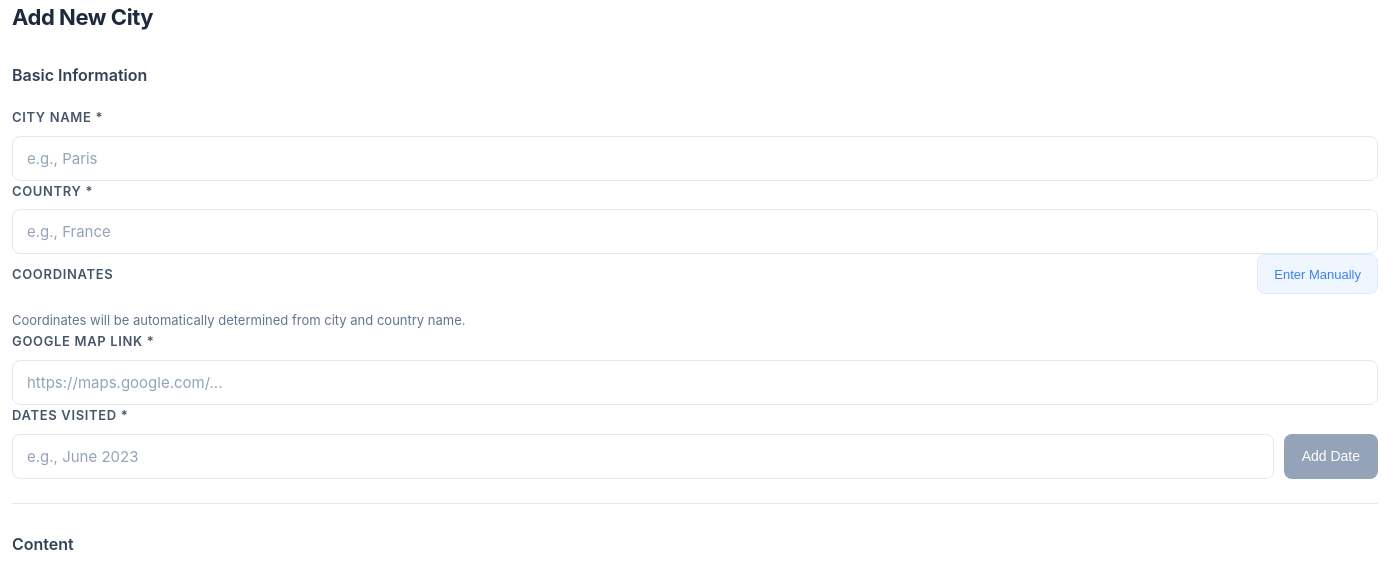
CityForm › allows adding and removing visit dates
// Add first date
Type "June 2023" into the field labelled "Dates Visited *".
click(643, 456); type("June 2023")  # box [12,434,1274,479]
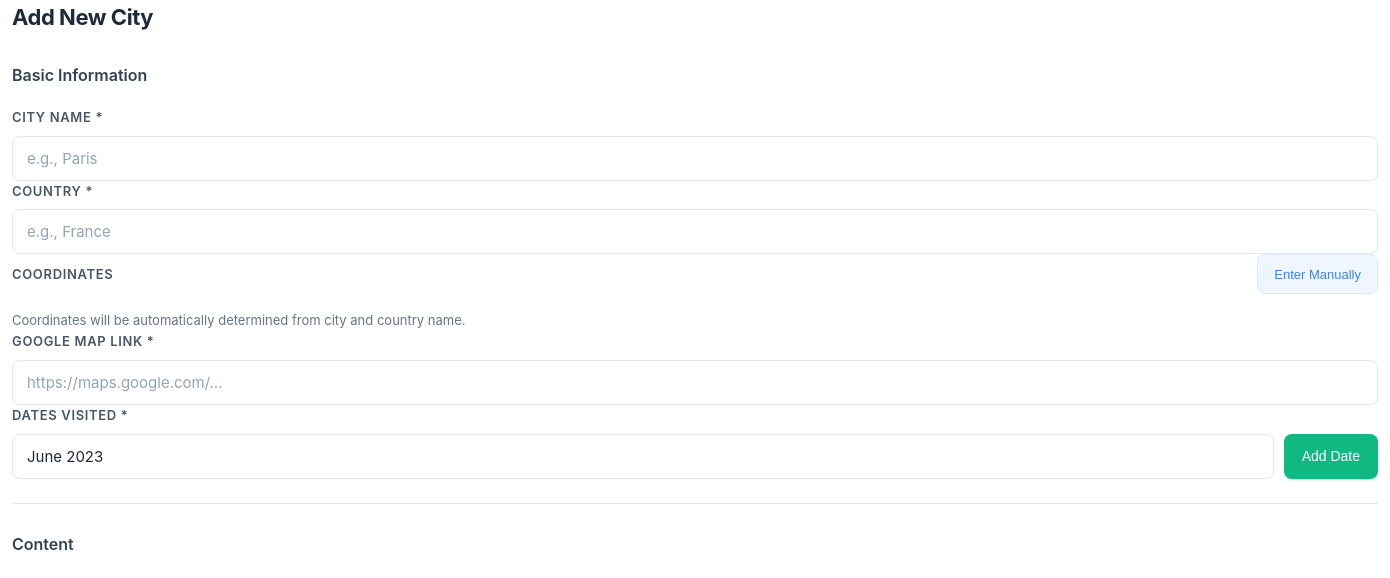
Click the button "Add Date".
click(1331, 456)  # box [1284,434,1378,479]
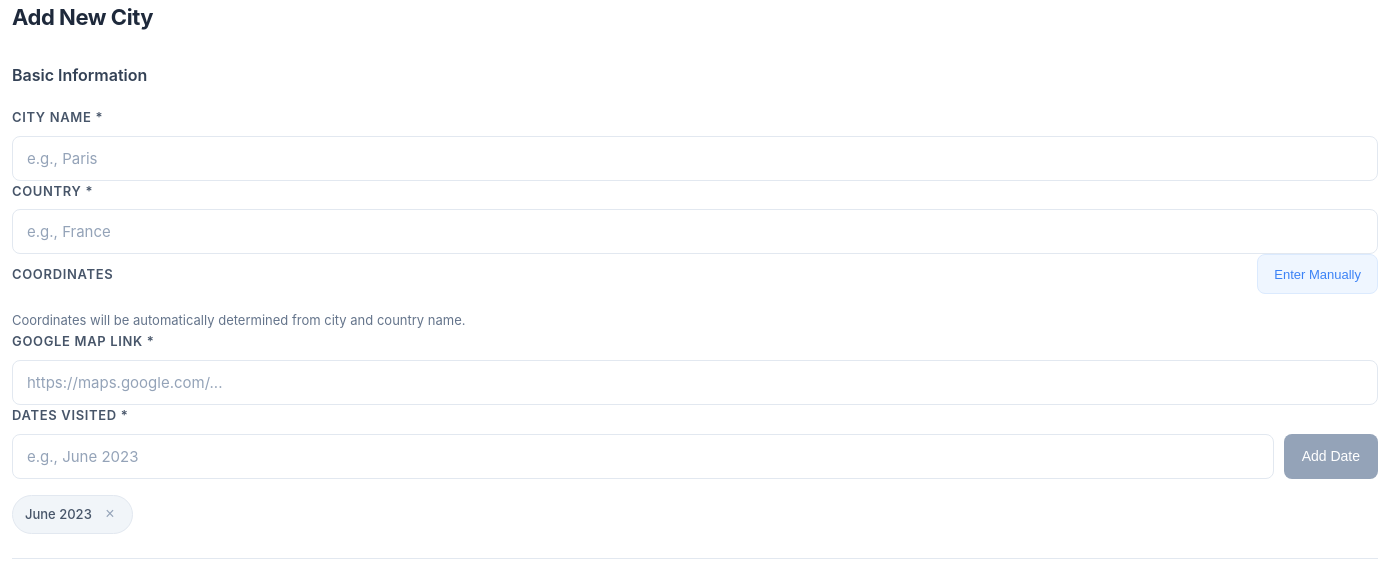
Now the text "June 2023" is shown, box [25,504,92,525]
Now the field labelled "Dates Visited *" is empty
// Add second date
Type "December 2023" into the field labelled "Dates Visited *".
click(643, 456); type("December 2023")  # box [12,434,1274,479]
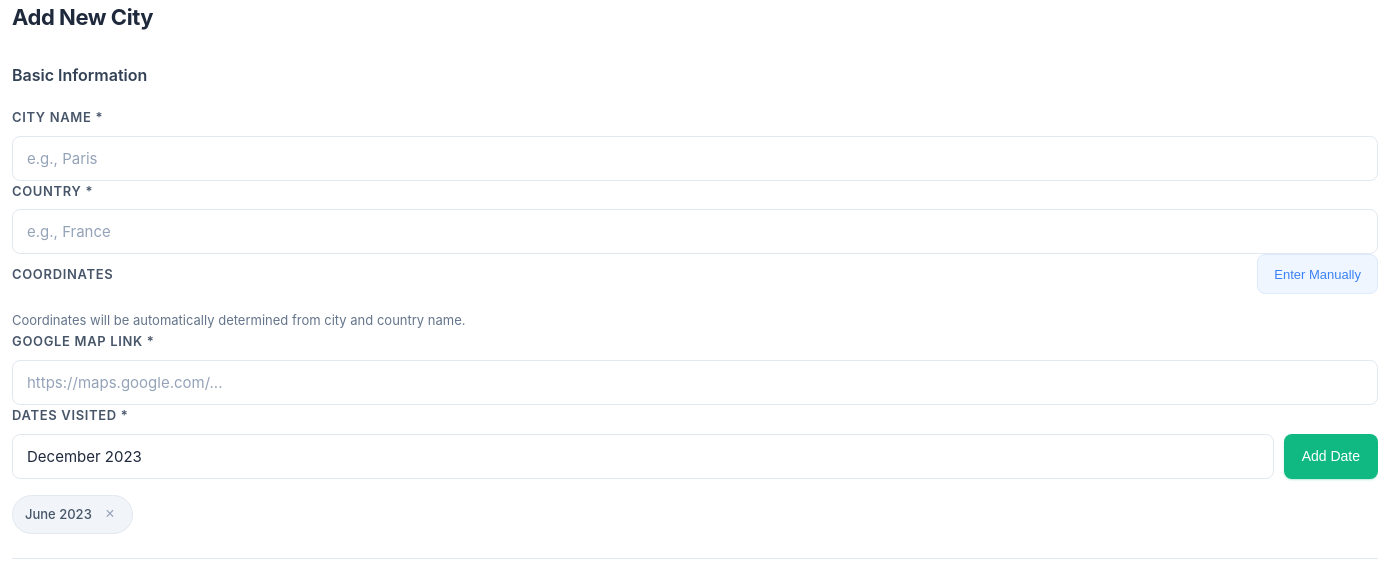
Click the button "Add Date".
click(1331, 456)  # box [1284,434,1378,479]
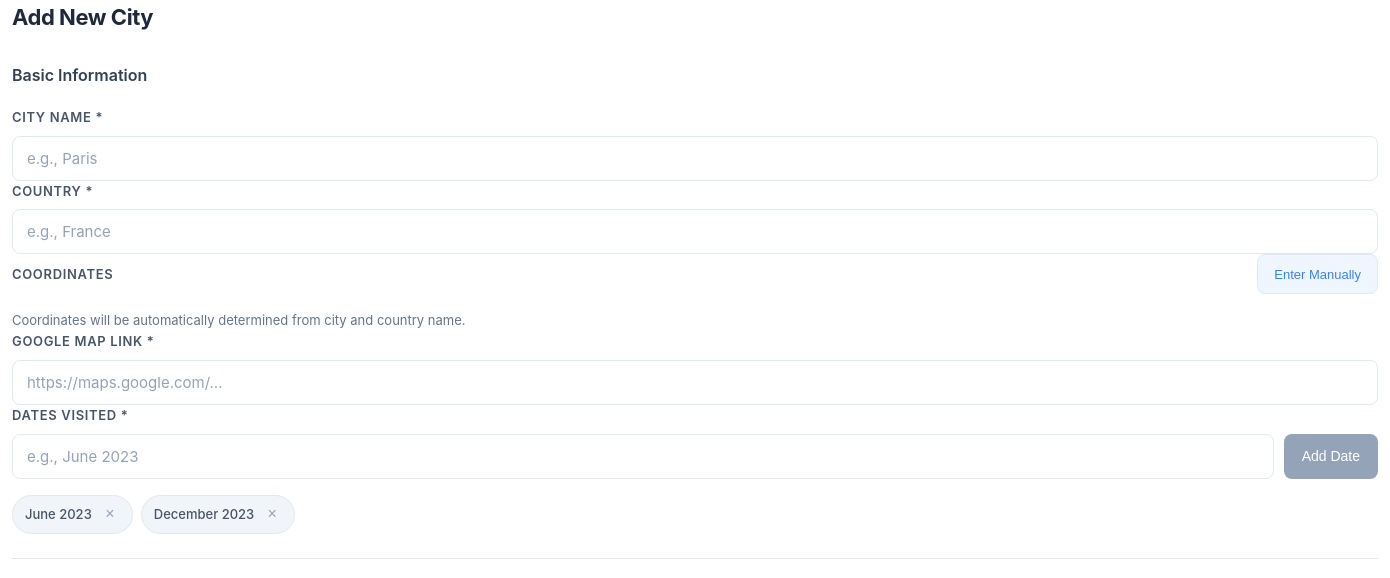
Now the text "December 2023" is shown, box [154,504,254,525]
// Remove first date
Click the button named "remove date".
click(110, 514)  # box [100,504,120,524]
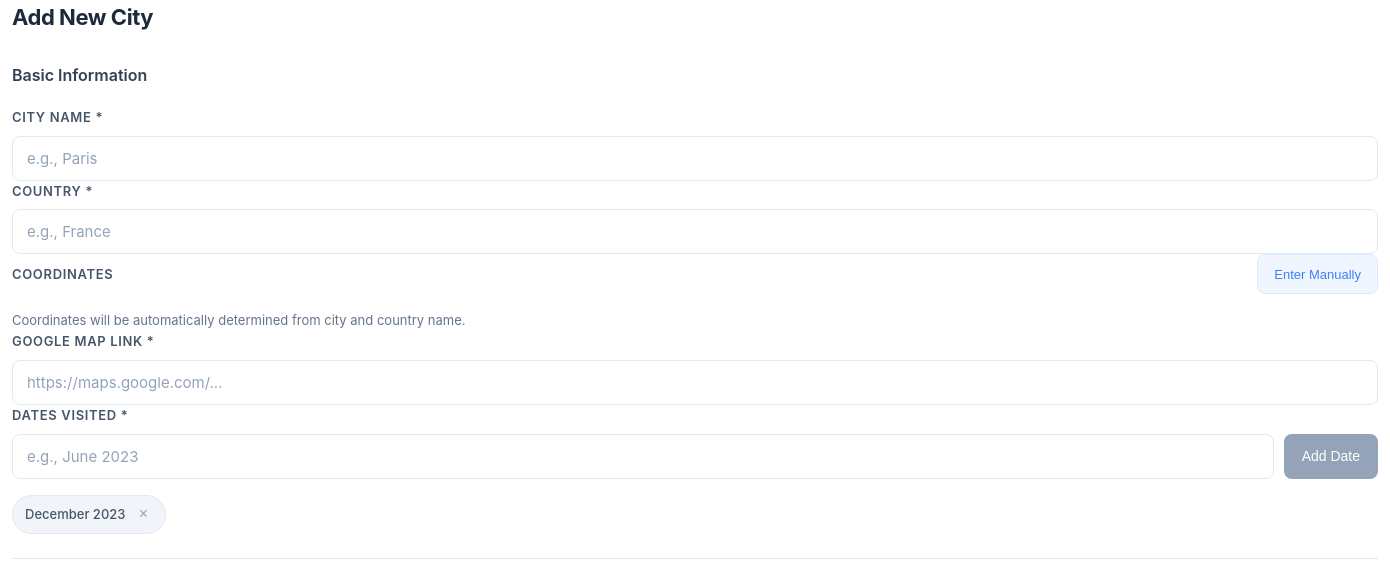
Now the text "December 2023" is shown, box [25,504,125,525]
